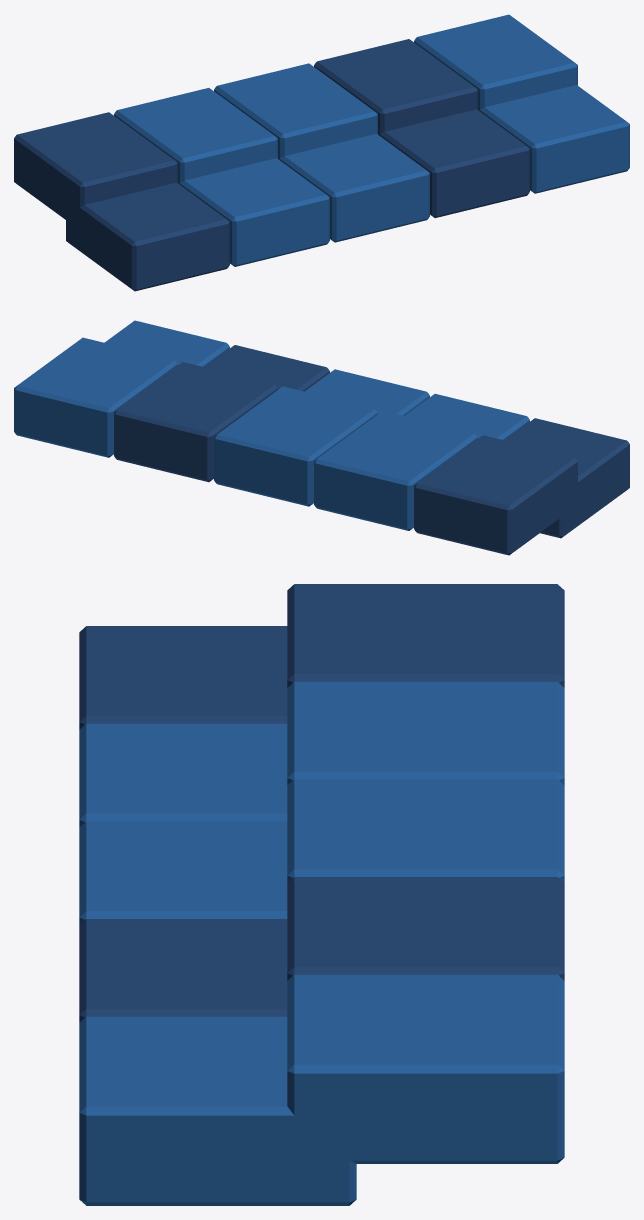
The model's file is roof_blue_trim.glb.
3 views of the same model, one above another, from view 1: azimuth 30°, elevation 25°; view 2: azimuth 150°, elevation 25°; view 3: azimuth 270°, elevation 25° (orthographic). The views are drawn at different scales.
Visible parts, largest first — view 1: roof_blue_trim__body__azure, roof_blue_trim__body__navy; view 2: roof_blue_trim__body__azure, roof_blue_trim__body__navy; view 3: roof_blue_trim__body__azure, roof_blue_trim__body__navy.
Boxes of the visible parts, left/top/right/bottom form: roof_blue_trim__body__azure: left=114, top=14, right=629, bottom=266; roof_blue_trim__body__navy: left=14, top=39, right=529, bottom=291; roof_blue_trim__body__azure: left=14, top=320, right=529, bottom=530; roof_blue_trim__body__navy: left=114, top=345, right=629, bottom=555; roof_blue_trim__body__azure: left=79, top=681, right=564, bottom=1205; roof_blue_trim__body__navy: left=79, top=584, right=564, bottom=1022.
Bounding box in the file's own units: 0.996 × 0.135 × 0.42.
